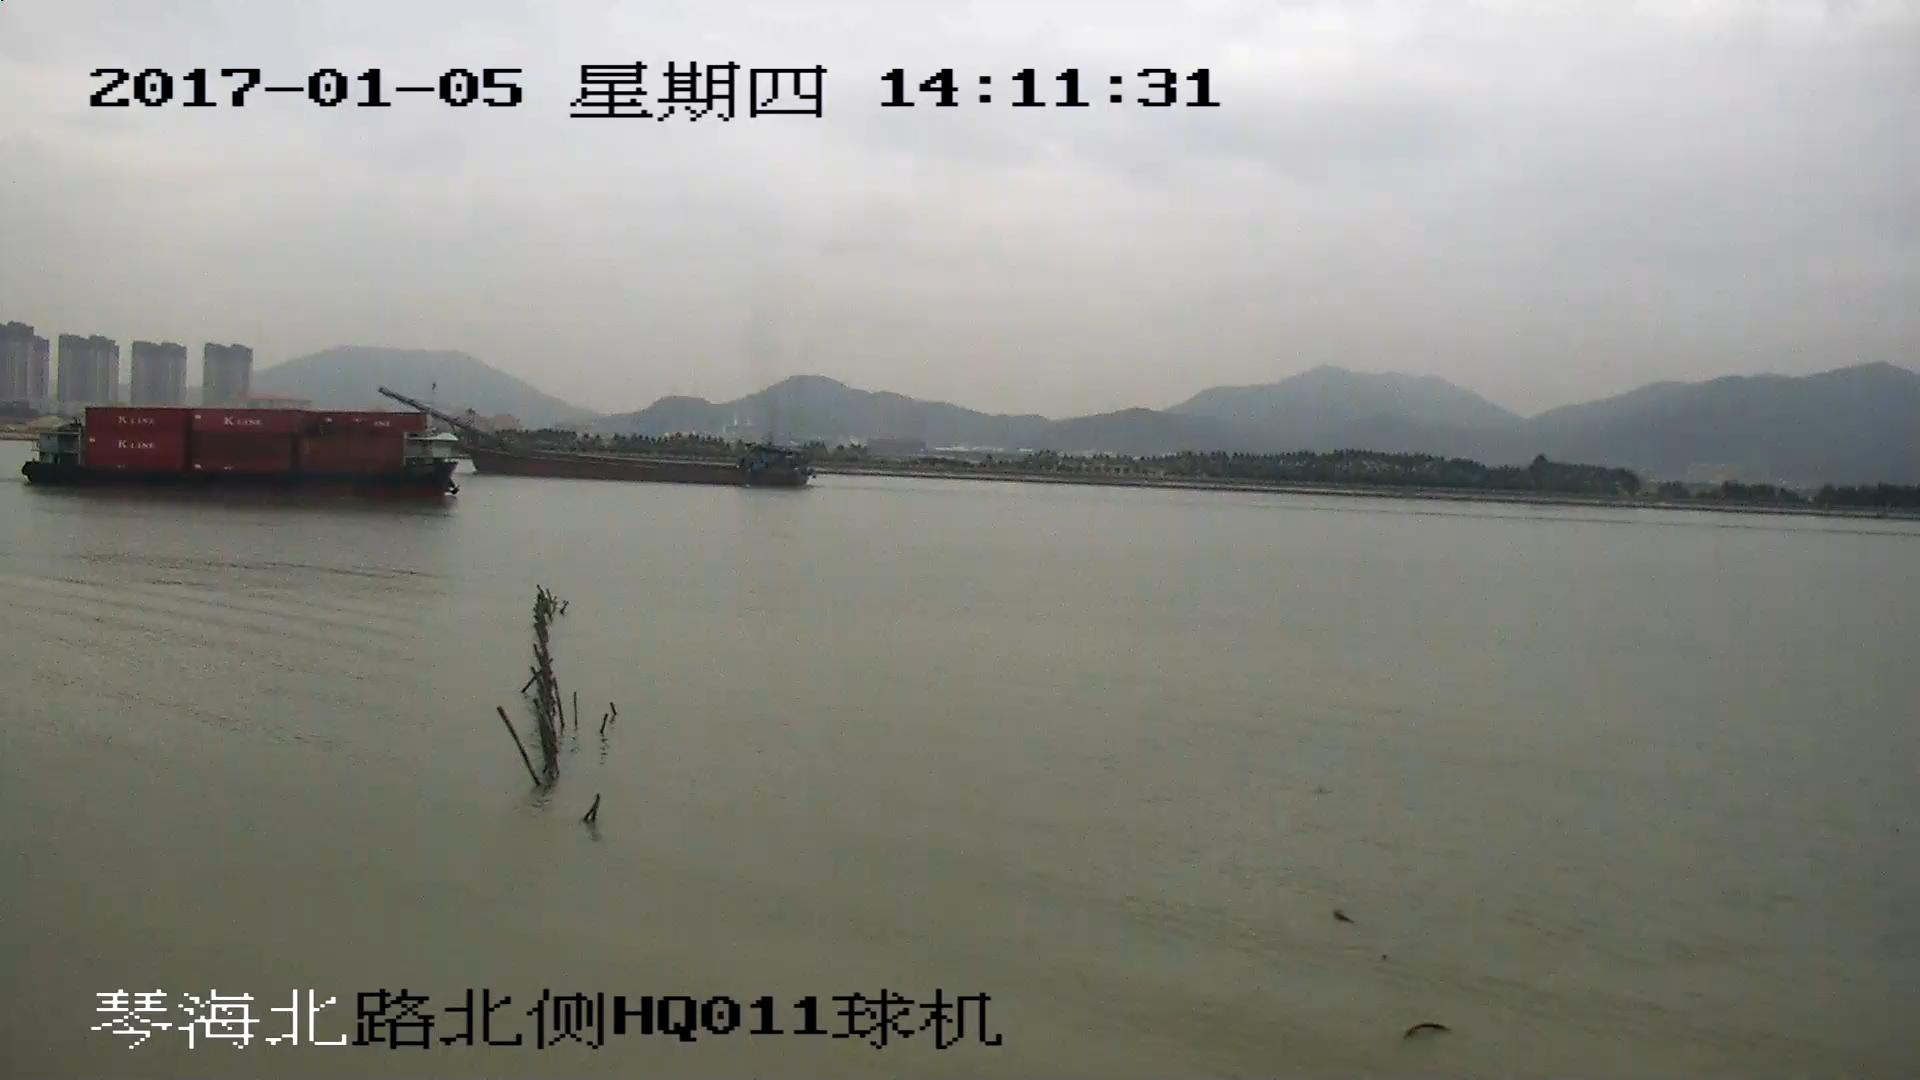bulk cargo carrier: (383, 392, 809, 482)
container ship: (24, 405, 454, 500)
